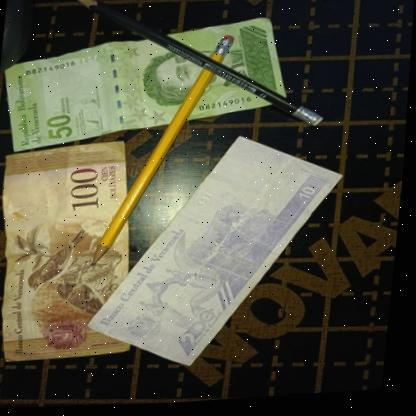fifty-front-vef: (0, 9, 296, 163)
ten-back-vef: (87, 128, 350, 380)
